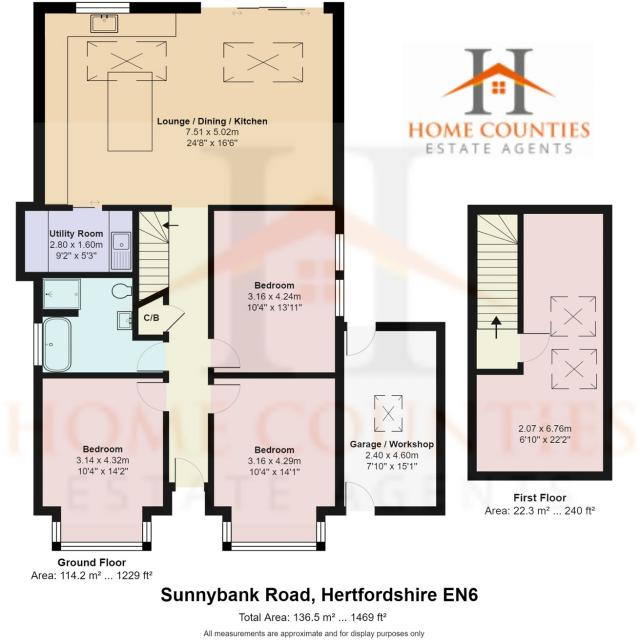DOOR: (174, 456, 205, 492), (208, 383, 241, 414), (208, 338, 241, 369), (136, 381, 169, 412), (136, 341, 169, 372)
ROOM: (16, 1, 345, 212), (204, 372, 344, 551), (33, 372, 169, 552), (208, 204, 345, 378)
WINDOW: (222, 521, 326, 551), (51, 521, 152, 551), (75, 2, 130, 14), (33, 322, 43, 367), (334, 233, 345, 272), (334, 279, 345, 317)
